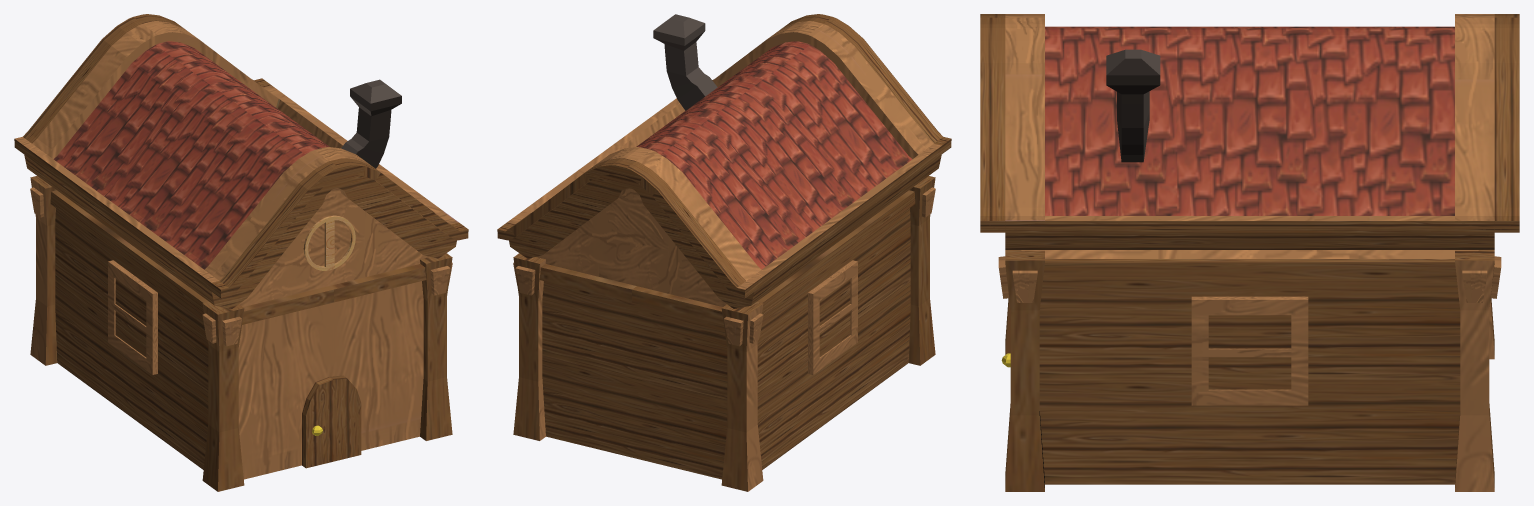
Rendered from House.fbx.
3 views of the same model, side by side, from view 1: azimuth 30°, elevation 25°; view 2: azimuth 150°, elevation 25°; view 3: azimuth 270°, elevation 25° (orthographic). The views are drawn at different scales.
Visible parts, largest first — view 1: casa, tejado, tejado interno, casa.001, puerta, chimenea, Cube, decoracion columna, window up; view 2: casa, tejado, tejado interno, casa.001, chimenea, Cube, decoracion columna; view 3: casa, tejado interno, tejado, casa.001, Cube, chimenea, decoracion columna.
Part boxes in pixels (x1,y1,x2,y2): casa: [55, 188, 429, 479]; tejado: [14, 14, 468, 491]; tejado interno: [53, 41, 329, 269]; casa.001: [50, 190, 426, 324]; puerta: [302, 375, 361, 468]; chimenea: [341, 79, 401, 168]; Cube: [108, 260, 157, 374]; decoracion columna: [30, 187, 452, 346]; window up: [303, 215, 355, 270]; casa: [536, 188, 910, 479]; tejado: [497, 14, 951, 491]; tejado interno: [636, 41, 912, 269]; casa.001: [539, 190, 915, 324]; chimenea: [653, 14, 717, 110]; Cube: [808, 260, 857, 374]; decoracion columna: [513, 187, 935, 346]; casa: [1021, 250, 1478, 484]; tejado interno: [1045, 26, 1454, 215]; tejado: [980, 14, 1519, 491]; casa.001: [1043, 259, 1456, 279]; Cube: [1191, 296, 1308, 405]; chimenea: [1106, 49, 1160, 162]; decoracion columna: [998, 256, 1501, 302].
Bounding box in the file's own units: 640 × 795 × 924.
2 materials, 1 textured.
